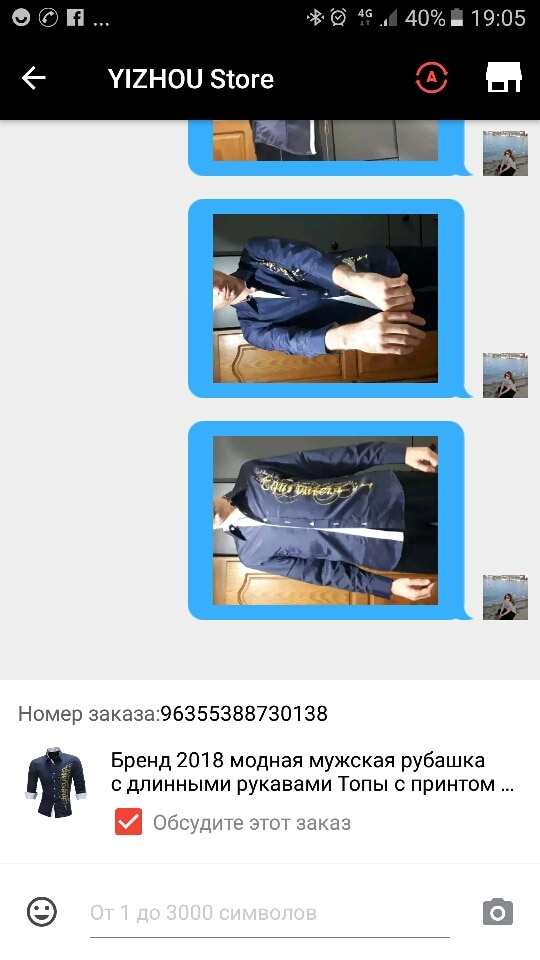shirts: (219, 435, 414, 596), (221, 233, 399, 386)
